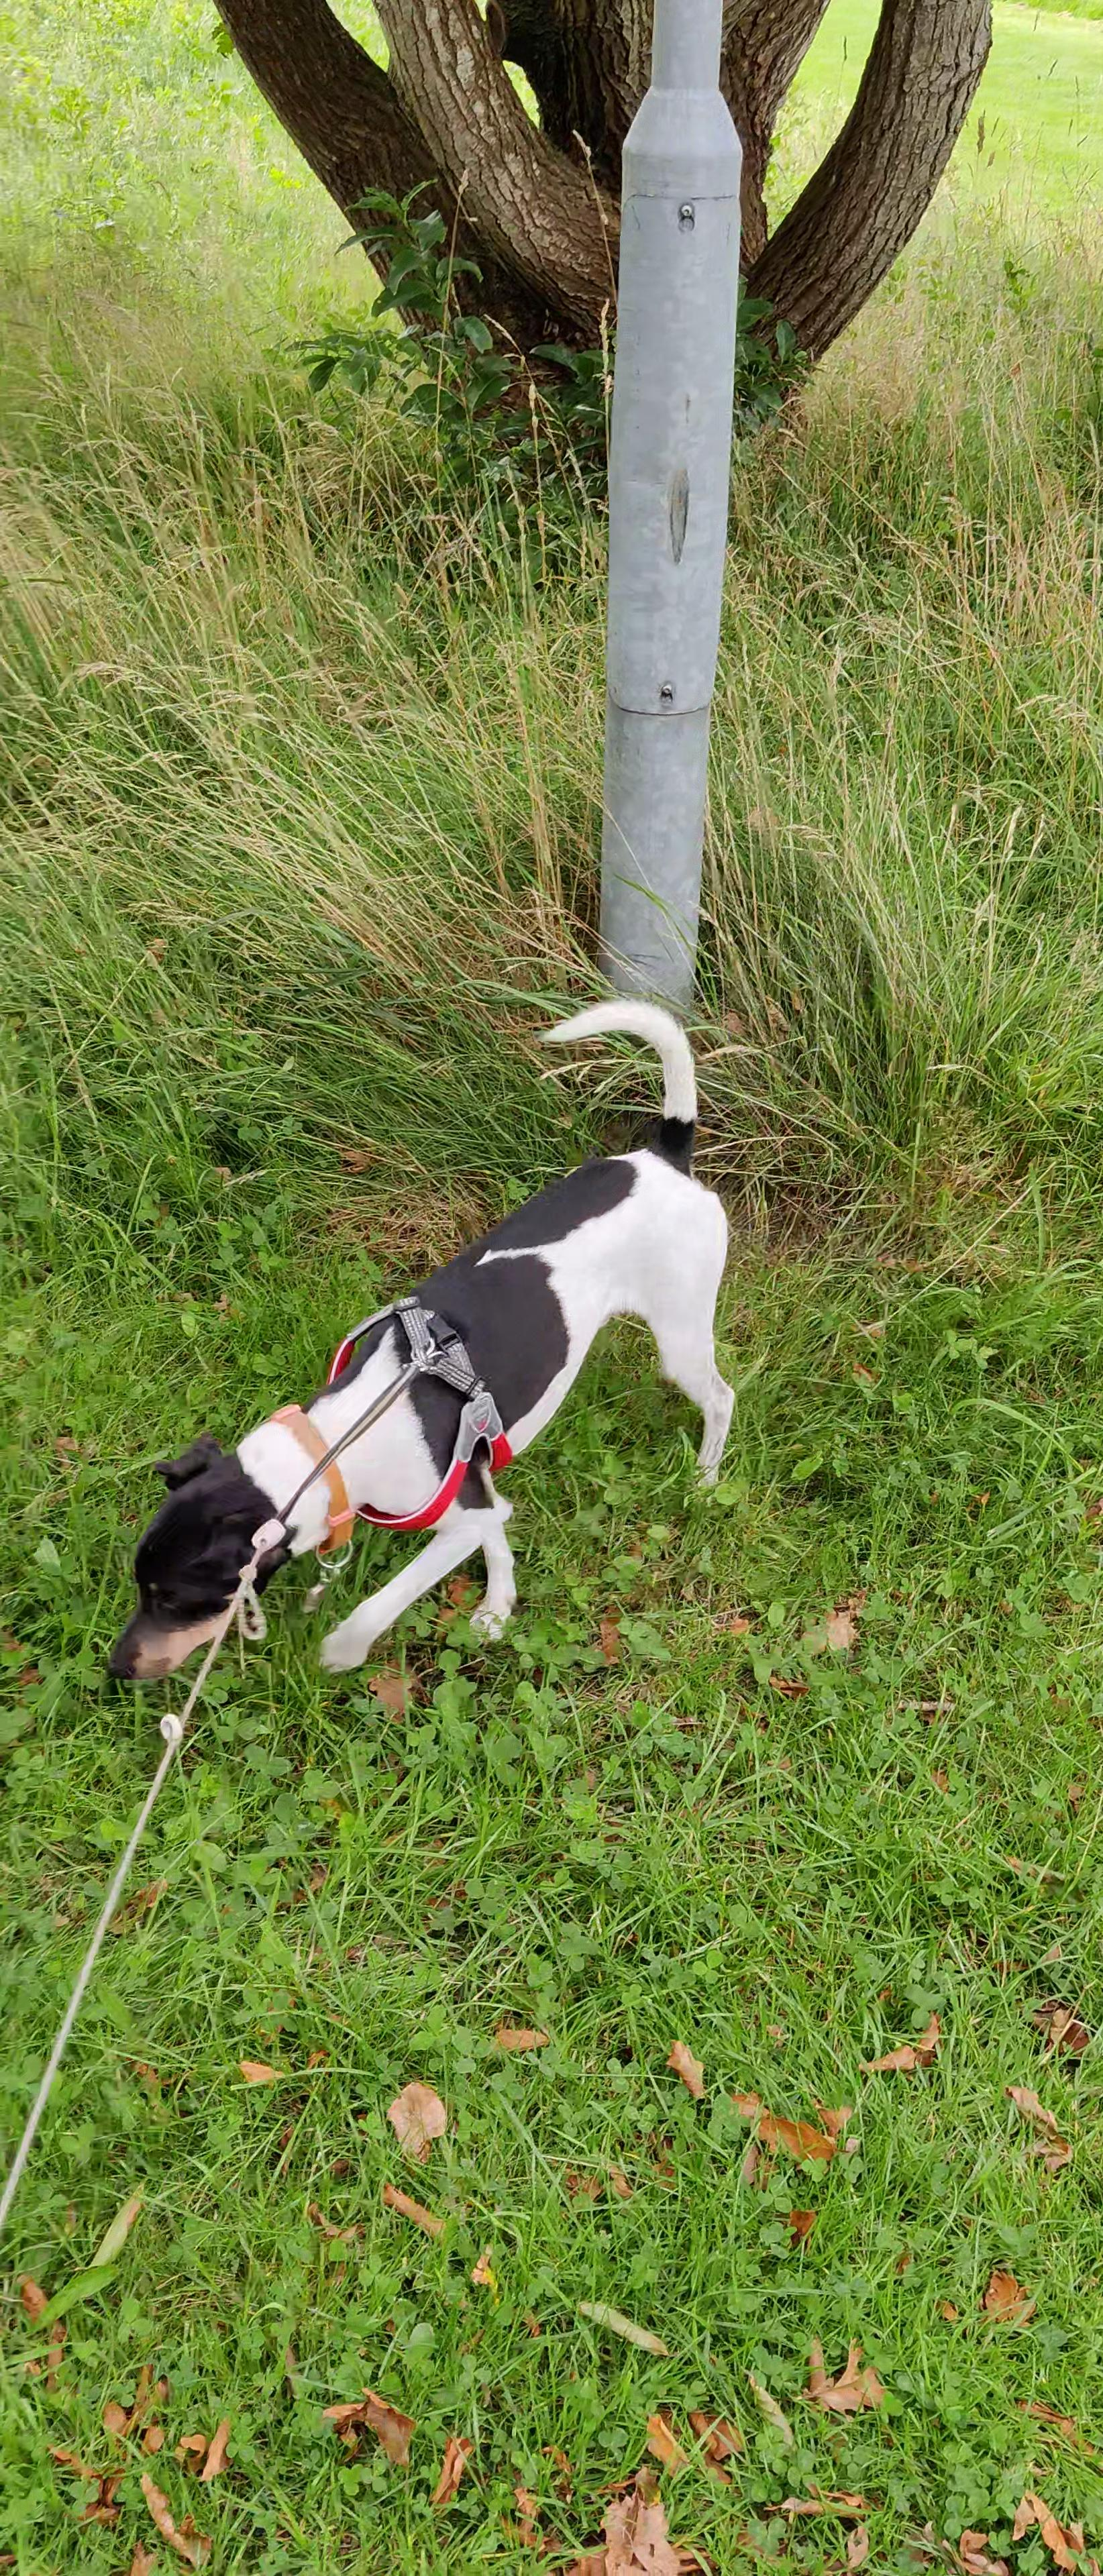Dog: (84, 991, 756, 1682)
